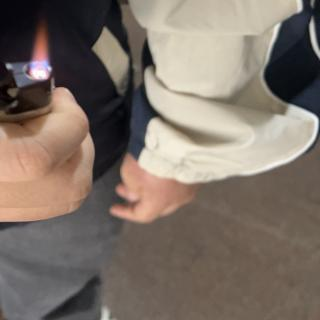fire: (32, 20, 49, 80)
